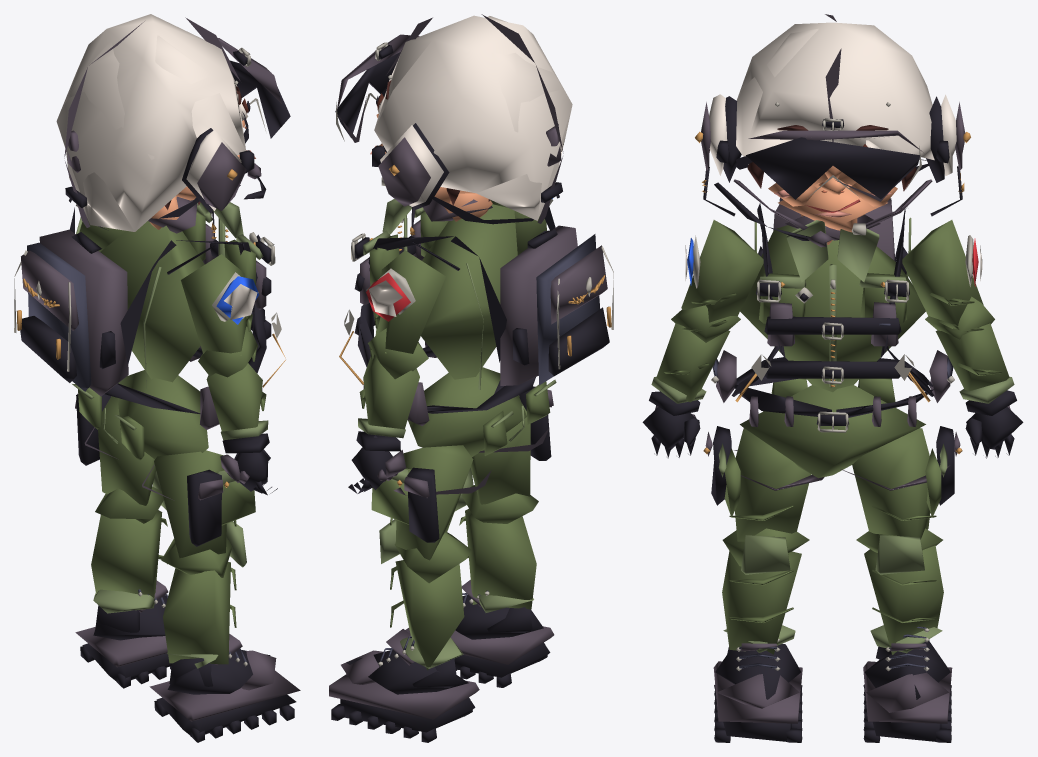
3 views of the same model, side by side, from view 1: azimuth 30°, elevation 25°; view 2: azimuth 150°, elevation 25°; view 3: azimuth 270°, elevation 25° (orthographic).
Parts seen in each view (by area): view 1: head, torso, footR, hip, shinR, shinL, legR, footL, armR, foreArmR, legL, handR (+1 smaller); view 2: head, torso, footL, hip, shinL, shinR, legL, footR, armL, foreArmL, legR, handL (+1 smaller); view 3: head, torso, hip, legL, footL, footR, legR, shinR, shinL, armL, armR, foreArmL (+3 smaller).
Boxes of the visible parts, left/top/right/bottom form: head: left=56, top=14, right=290, bottom=274; torso: left=14, top=196, right=285, bottom=396; footR: left=149, top=634, right=300, bottom=742; hip: left=72, top=346, right=262, bottom=460; shinR: left=161, top=521, right=246, bottom=668; shinL: left=91, top=471, right=167, bottom=613; legR: left=142, top=450, right=255, bottom=558; footL: left=75, top=580, right=171, bottom=688; armR: left=181, top=254, right=259, bottom=353; foreArmR: left=198, top=326, right=268, bottom=440; legL: left=75, top=393, right=156, bottom=505; handR: left=220, top=433, right=277, bottom=495; head: left=335, top=14, right=572, bottom=270; torso: left=339, top=199, right=613, bottom=389; footL: left=329, top=629, right=479, bottom=742; hip: left=363, top=342, right=556, bottom=456; shinL: left=379, top=519, right=471, bottom=670; shinR: left=454, top=468, right=538, bottom=612; legL: left=371, top=445, right=491, bottom=560; footR: left=405, top=580, right=554, bottom=687; armL: left=366, top=250, right=445, bottom=353; foreArmL: left=358, top=328, right=428, bottom=438; legR: left=470, top=386, right=553, bottom=504; handL: left=348, top=431, right=406, bottom=493; head: left=695, top=14, right=970, bottom=247; torso: left=731, top=197, right=934, bottom=402; hip: left=711, top=350, right=954, bottom=478; legL: left=840, top=426, right=962, bottom=539; footL: left=863, top=626, right=952, bottom=742; footR: left=713, top=639, right=802, bottom=742; legR: left=703, top=426, right=824, bottom=541; shinR: left=722, top=528, right=809, bottom=654; shinL: left=856, top=528, right=943, bottom=654; armL: left=902, top=220, right=983, bottom=325; armR: left=681, top=220, right=763, bottom=322; foreArmL: left=925, top=296, right=1014, bottom=403.
Bounding box in the file's own units: 0.6216 × 1.8 × 0.9091.
